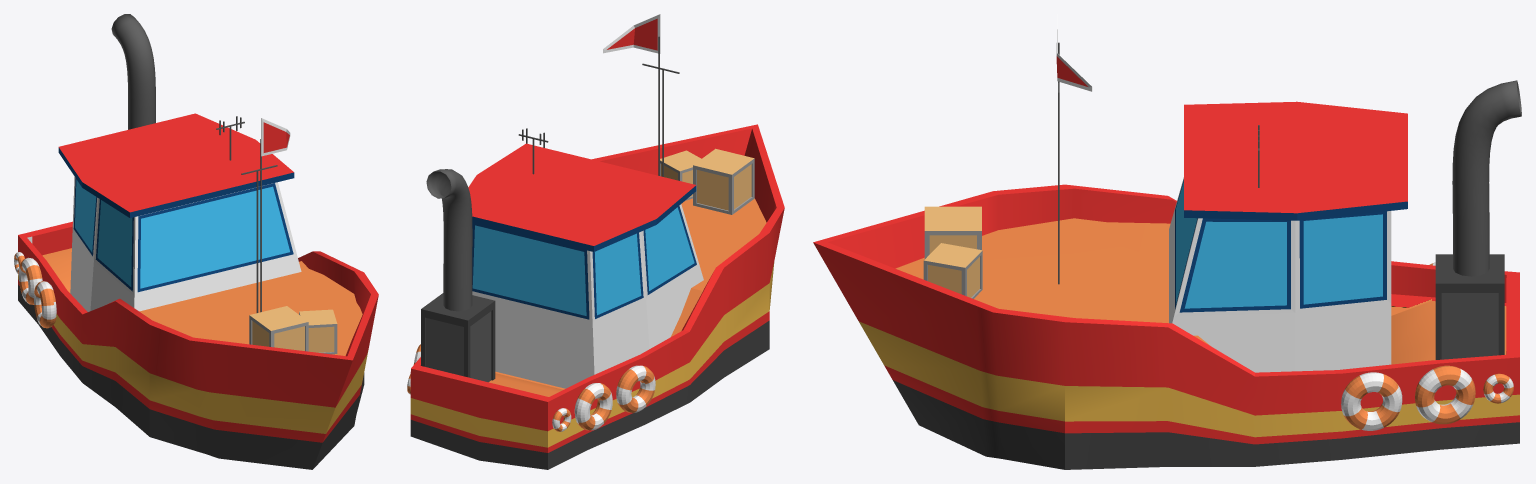
File: boat1.glb
3 renders of one model, left to right at view 1: azimuth 30°, elevation 25°; view 2: azimuth 150°, elevation 25°; view 3: azimuth 270°, elevation 25°, orthographic. The views are drawn at different scales.
Visible parts, largest first — view 1: Cube, Cube.017, BezierCurve, Cube.004, Cube.005, Torus.004, Plane, Torus.006, Cube.002; view 2: Cube.017, Cube, Cube.012, BezierCurve, Cube.004, Torus.004, Torus.006, Plane, Cube.005; view 3: Cube, Cube.017, BezierCurve, Cube.012, Torus.001, Torus.003, Cube.005, Cube.004.
Boxes of the visible parts, x1,y1,x2,y2 form: Cube: [18, 221, 378, 469]; Cube.017: [58, 113, 301, 311]; BezierCurve: [111, 14, 155, 129]; Cube.004: [249, 306, 308, 351]; Cube.005: [299, 309, 337, 354]; Torus.004: [34, 281, 56, 328]; Plane: [261, 118, 290, 156]; Torus.006: [18, 257, 42, 304]; Cube.002: [256, 170, 258, 312]; Cube.017: [468, 143, 703, 388]; Cube: [410, 124, 784, 469]; Cube.012: [421, 293, 495, 382]; BezierCurve: [426, 169, 472, 311]; Cube.004: [693, 148, 754, 214]; Torus.004: [616, 365, 655, 412]; Torus.006: [574, 383, 612, 430]; Plane: [603, 14, 660, 53]; Cube.005: [660, 150, 701, 200]; Cube: [813, 184, 1519, 469]; Cube.017: [1169, 101, 1407, 372]; BezierCurve: [1452, 80, 1521, 276]; Cube.012: [1435, 254, 1504, 359]; Torus.001: [1415, 365, 1475, 424]; Torus.003: [1341, 372, 1402, 430]; Cube.005: [923, 243, 982, 298]; Cube.004: [924, 206, 981, 259].
Size of the model in its own units: 11.64 by 16.24 by 25.32.
Materials: 1 (1 with a texture image).
